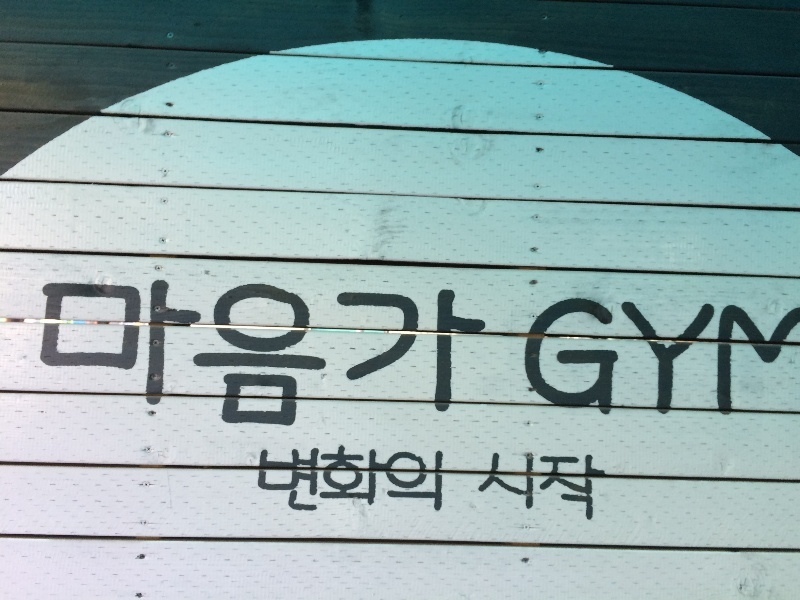text: (49, 274, 64, 433), (65, 274, 80, 433), (81, 274, 96, 433), (97, 274, 112, 433), (113, 274, 128, 433), (129, 274, 144, 433), (145, 274, 160, 433), (161, 274, 176, 433), (177, 274, 192, 433), (193, 274, 208, 433), (209, 274, 224, 433), (225, 274, 240, 433), (241, 274, 256, 433), (257, 274, 272, 433), (273, 274, 288, 433), (289, 274, 304, 433), (305, 274, 320, 433), (321, 274, 336, 433), (337, 274, 352, 433), (353, 274, 368, 433), (369, 274, 384, 433), (385, 274, 400, 433), (401, 274, 416, 433), (417, 274, 432, 433), (433, 274, 448, 433), (449, 274, 464, 433), (465, 274, 480, 433), (529, 294, 544, 415), (545, 294, 560, 415), (561, 294, 576, 415), (577, 294, 592, 415), (593, 294, 608, 415), (609, 294, 624, 415), (625, 294, 640, 415), (641, 294, 656, 415), (657, 294, 672, 415), (673, 294, 688, 415), (689, 294, 704, 415), (705, 294, 720, 415), (721, 294, 736, 415), (737, 294, 752, 415), (753, 294, 768, 415), (769, 294, 784, 415), (785, 294, 800, 415), (497, 449, 512, 525), (513, 449, 528, 525), (529, 449, 544, 525), (545, 449, 560, 525), (561, 449, 576, 525), (577, 449, 592, 525), (481, 274, 488, 433), (273, 444, 288, 516), (289, 444, 304, 516), (305, 444, 320, 516), (321, 444, 336, 516), (337, 444, 352, 516), (353, 444, 368, 516), (369, 444, 384, 516), (385, 444, 400, 516), (401, 444, 416, 516), (417, 444, 432, 516), (593, 449, 606, 525), (260, 444, 272, 516), (433, 444, 445, 516), (43, 274, 48, 433), (489, 449, 496, 525)
